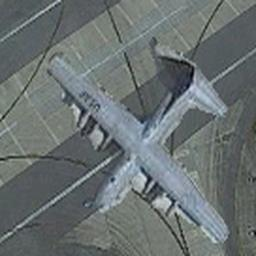Airplane: (41, 44, 234, 248)
